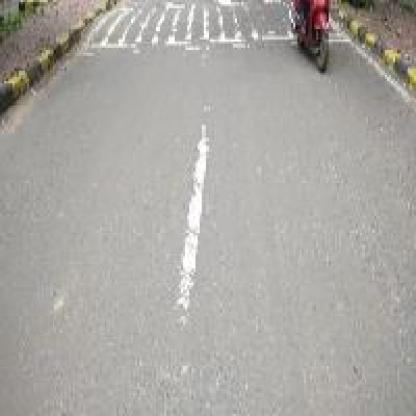Speed Bump: (71, 0, 283, 58)
